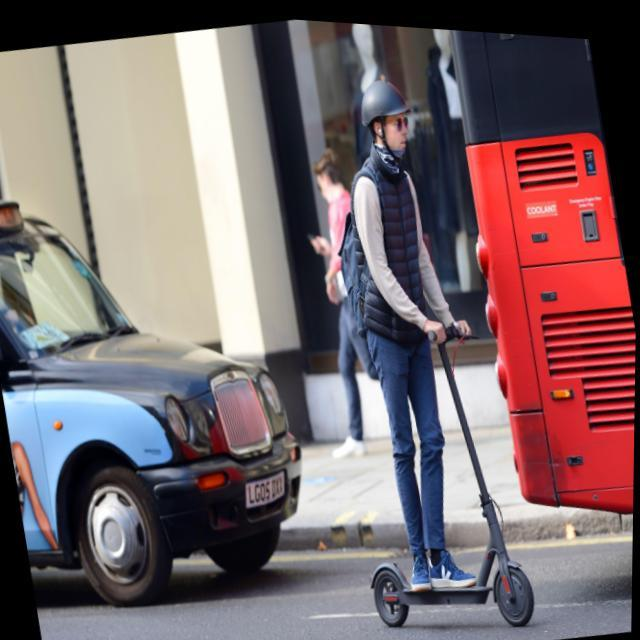Helmet: (352, 73, 420, 168)
